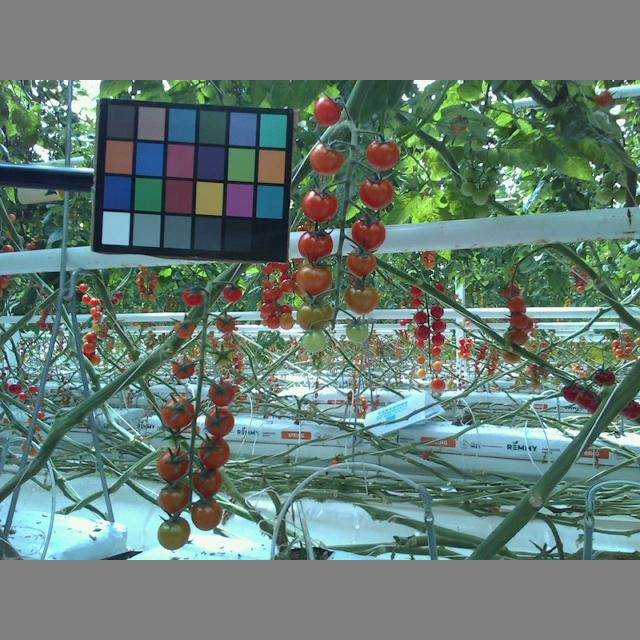green: (344, 319, 370, 343), (300, 330, 326, 351), (211, 344, 233, 368), (594, 369, 616, 388)
pink: (157, 395, 195, 431), (357, 175, 394, 211), (299, 229, 335, 264), (309, 143, 345, 177), (296, 301, 332, 335), (366, 137, 401, 171), (156, 449, 192, 482), (352, 217, 386, 251), (188, 465, 223, 497), (158, 515, 190, 550), (197, 435, 230, 468), (345, 281, 379, 313), (294, 267, 332, 295), (190, 496, 222, 529), (159, 480, 190, 512), (204, 406, 235, 437), (344, 250, 377, 278), (209, 379, 237, 405), (171, 354, 196, 379), (172, 316, 194, 339), (214, 312, 235, 332)
red: (303, 192, 339, 221), (311, 94, 342, 126), (179, 286, 203, 306), (559, 385, 584, 402), (220, 285, 242, 303)
